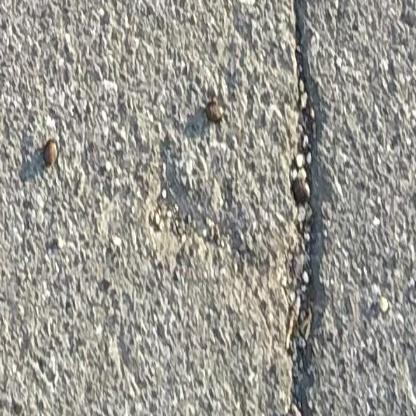Cracks: (278, 0, 325, 416)
